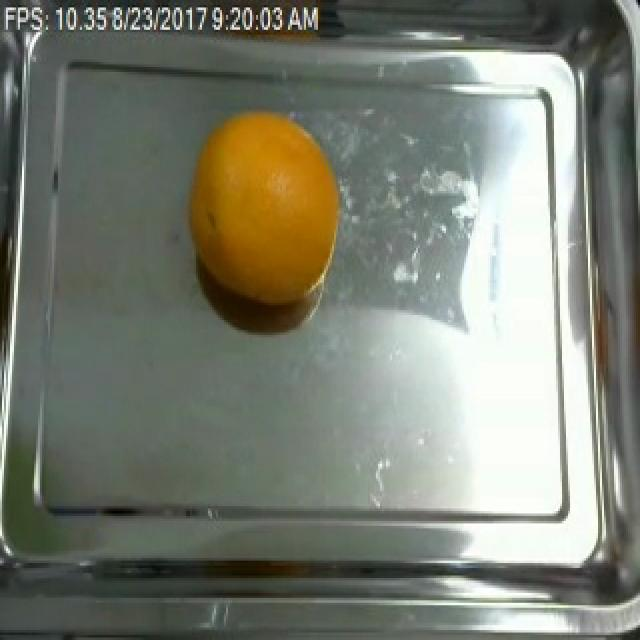Fruit: (180, 99, 346, 320)
